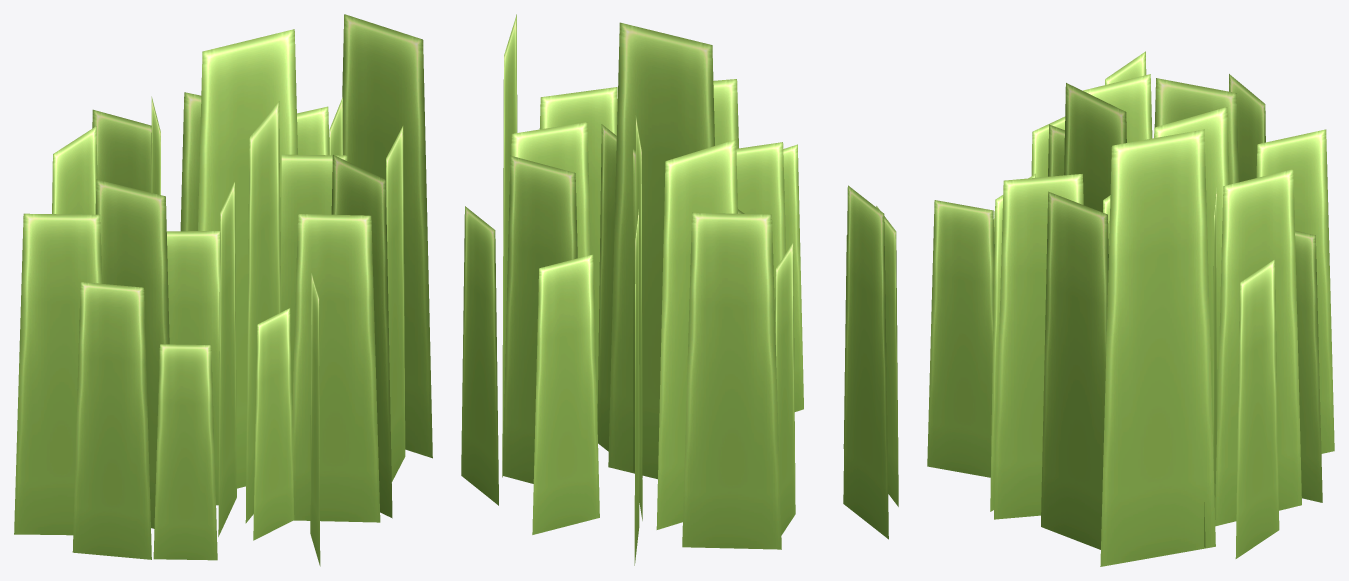
Rendered from SM_Grass_01_A.glb.
3 views of the same model, side by side, from view 1: azimuth 30°, elevation 25°; view 2: azimuth 150°, elevation 25°; view 3: azimuth 270°, elevation 25° (orthographic).
Visible parts, largest first — view 1: SM_Grass_01_A; view 2: SM_Grass_01_A; view 3: SM_Grass_01_A.
Boxes of the visible parts, x1,y1,x2,y2 form: SM_Grass_01_A: [14, 14, 432, 566]; SM_Grass_01_A: [461, 14, 898, 565]; SM_Grass_01_A: [927, 51, 1334, 566].
Size of the model in its own units: 0.1905 by 0.206 by 0.1693.
Materials: 1 (1 with a texture image).
